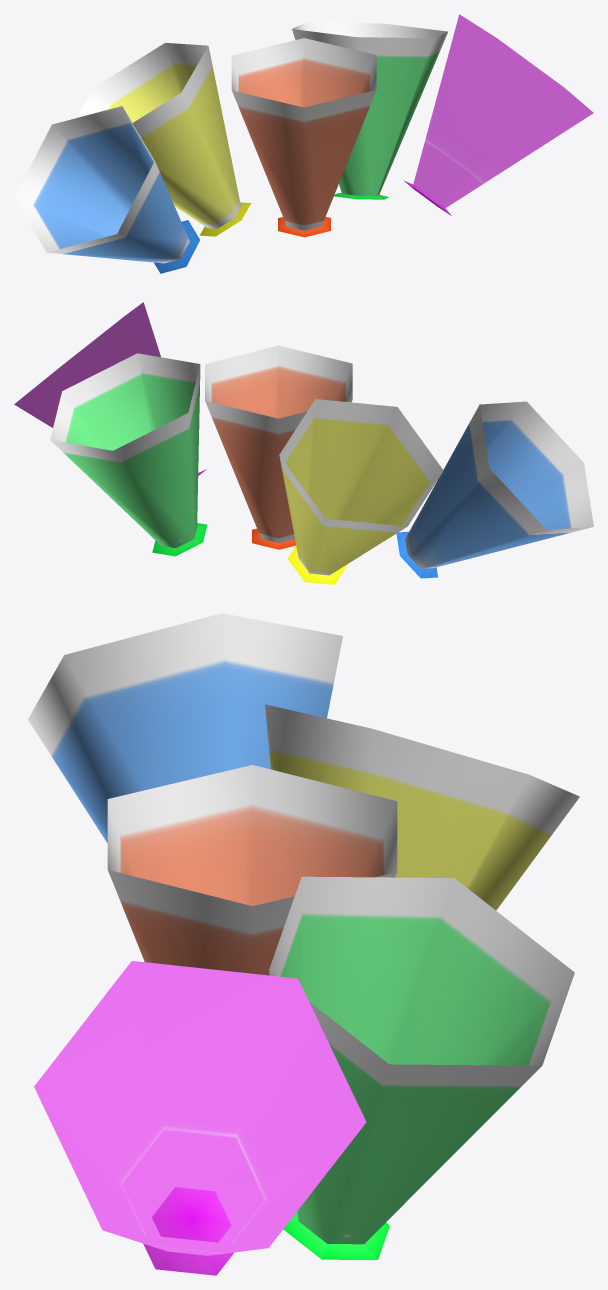
The model's file is dicso_light_5_color_lights.DAE.
3 views of the same model, one above another, from view 1: azimuth 30°, elevation 25°; view 2: azimuth 150°, elevation 25°; view 3: azimuth 270°, elevation 25° (orthographic). The views are drawn at different scales.
Parts seen in each view (by area): view 1: Cylinder16; view 2: Cylinder16; view 3: Cylinder16.
Part boxes in pixels (bbox=[...]): Cylinder16: bbox=[14, 14, 593, 273]; Cylinder16: bbox=[14, 302, 593, 584]; Cylinder16: bbox=[28, 613, 579, 1275].
Bounding box in the file's own units: 4.84 × 1.61 × 2.15.
